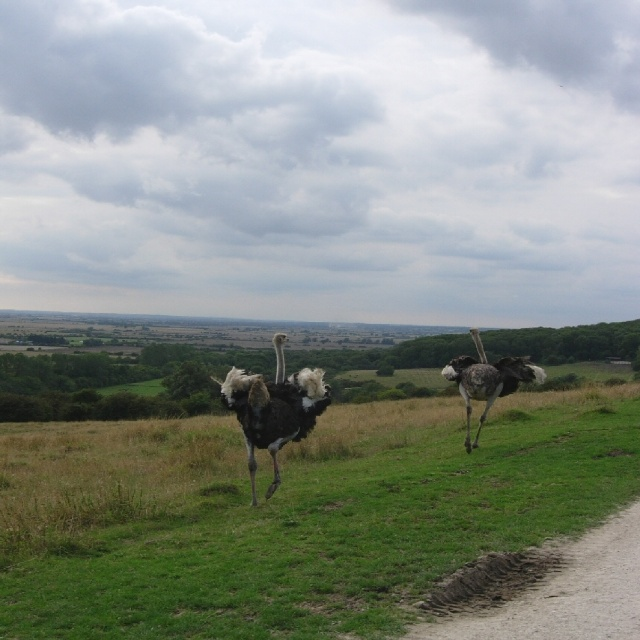Ostrich: (222, 332, 334, 506), (438, 324, 546, 455)
